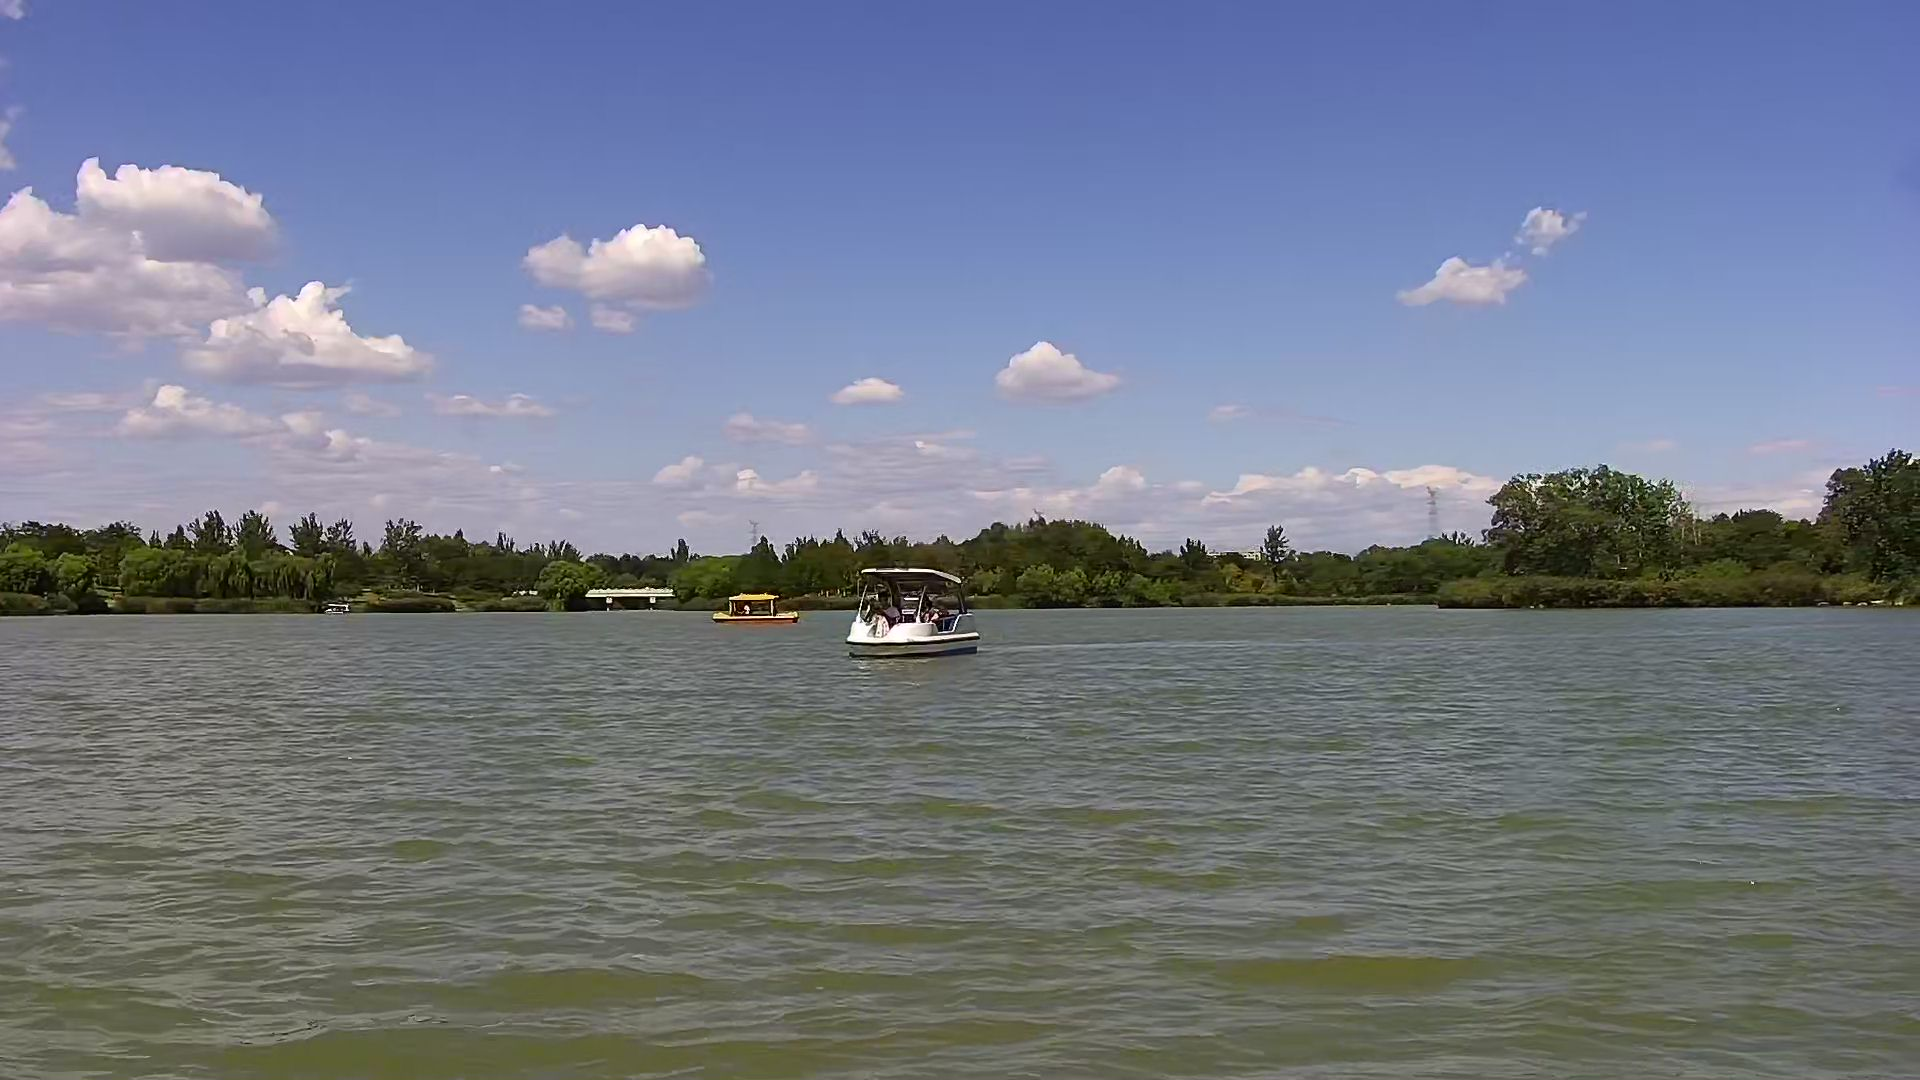boat: (845, 568, 975, 658), (713, 589, 800, 622)
bridge: (591, 587, 675, 617)
